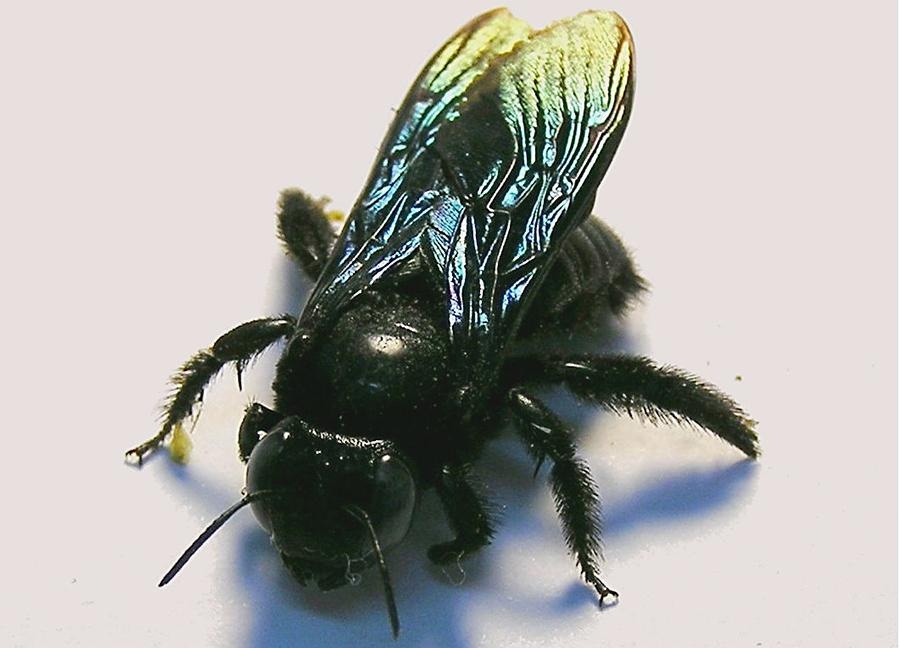Allodapula: (131, 12, 775, 633)
